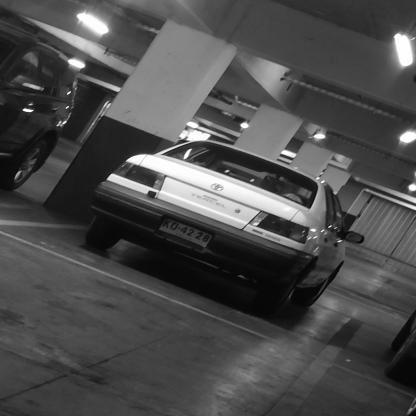Patente: (156, 216, 216, 250)
